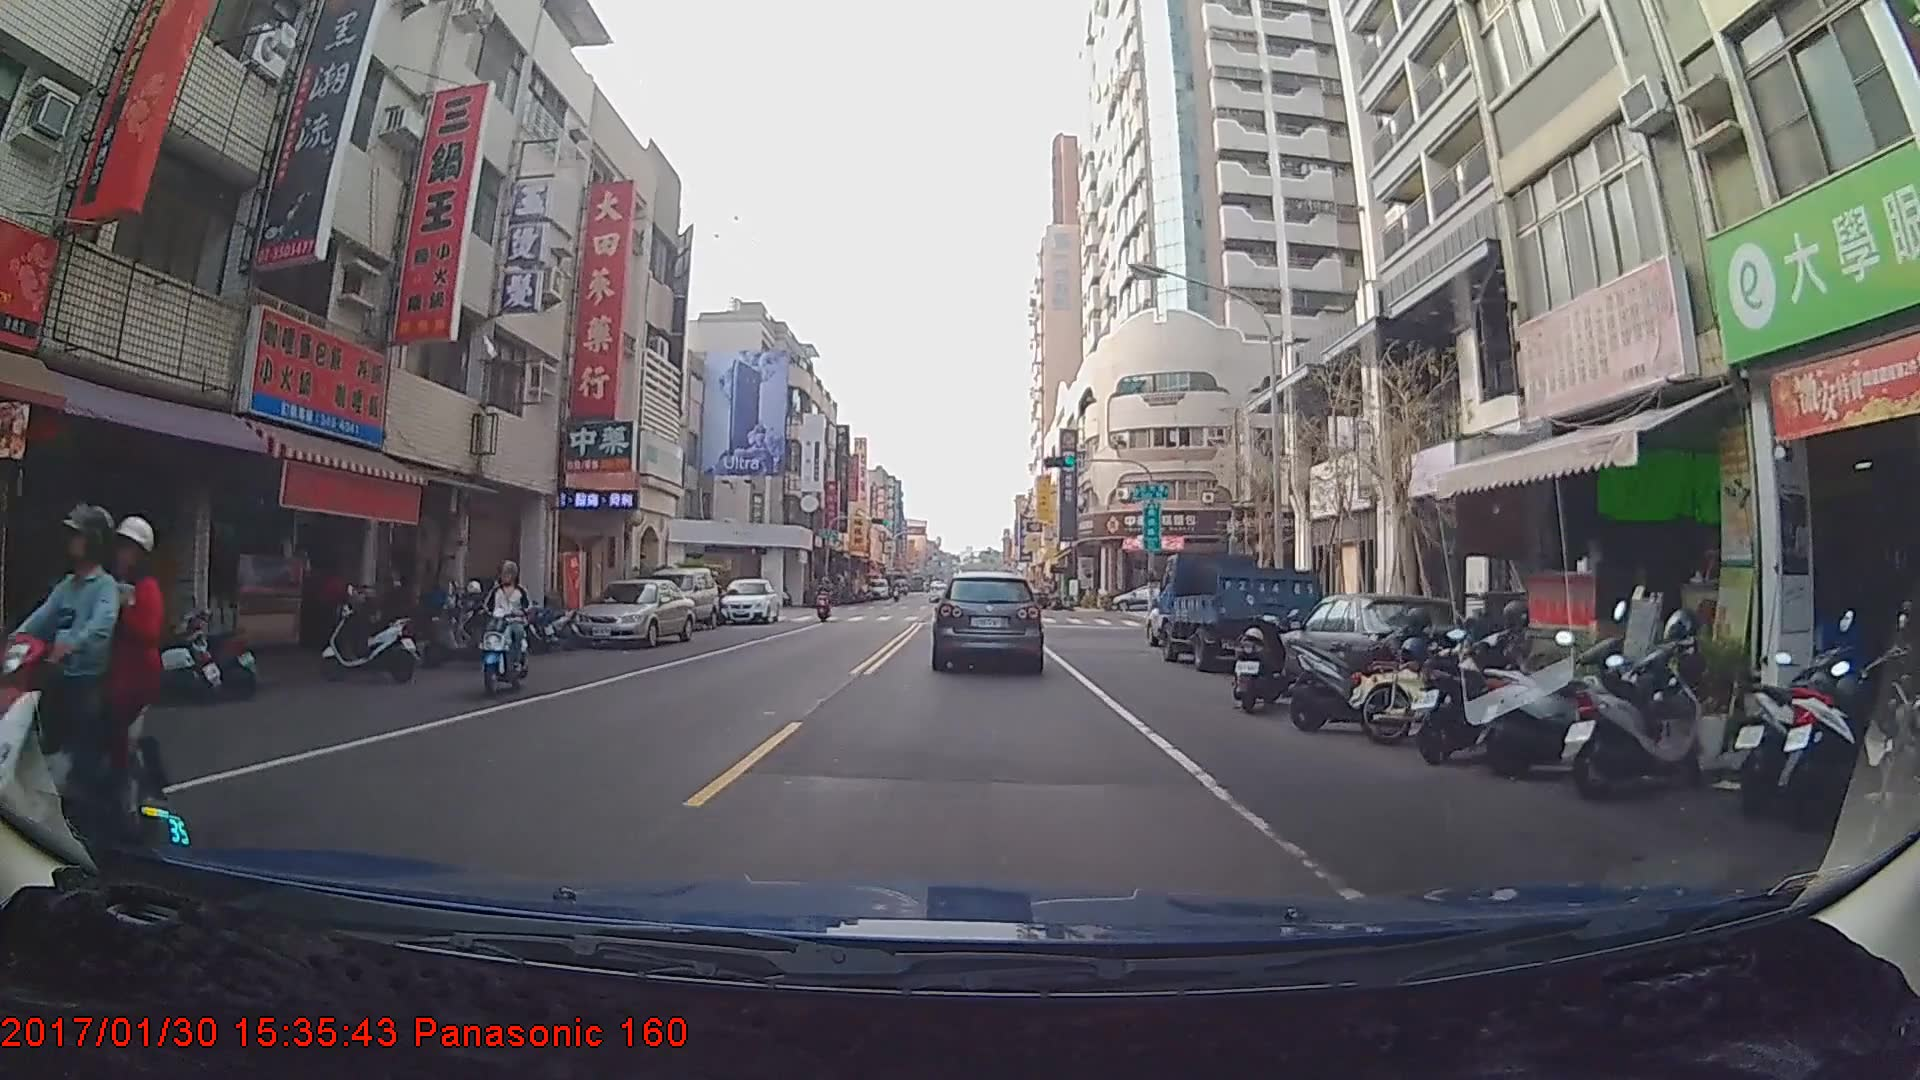rider: (8, 496, 185, 861), (476, 561, 539, 696), (814, 579, 835, 626)
vehicle: (1155, 551, 1322, 673), (933, 569, 1043, 672), (567, 577, 696, 649), (636, 564, 721, 632), (719, 575, 781, 625), (1109, 583, 1176, 612)
